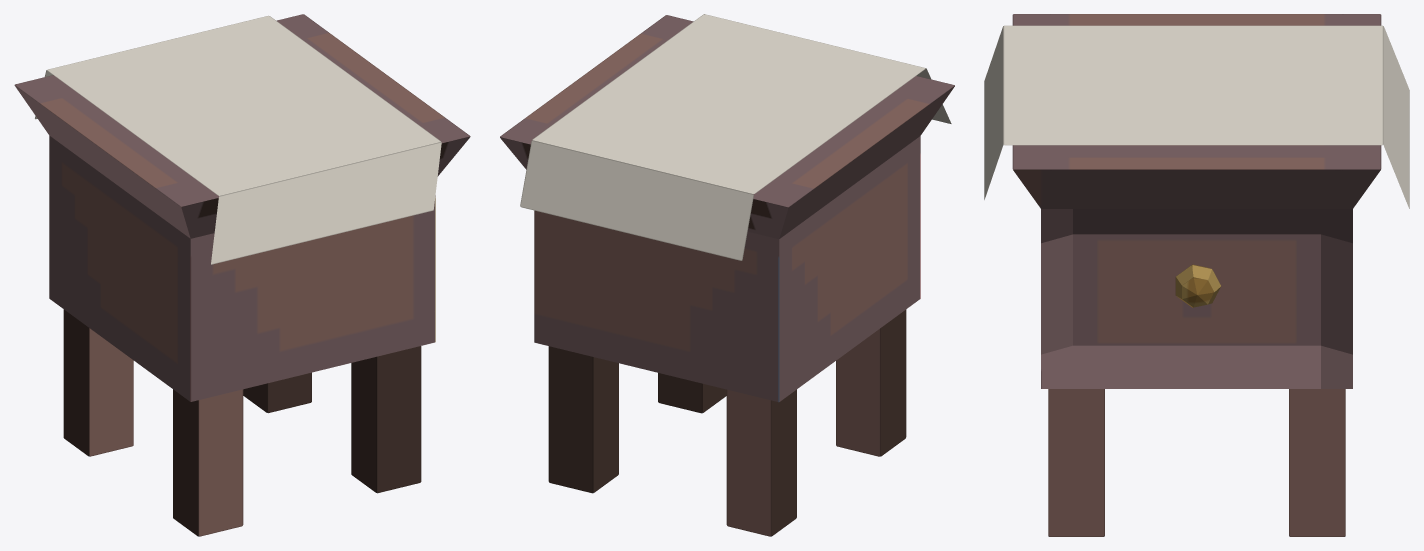
The model's file is livingroomsidetable.fbx.
The picture shows the model from 3 angles, left to right: view 1: azimuth 30°, elevation 25°; view 2: azimuth 150°, elevation 25°; view 3: azimuth 270°, elevation 25°; orthographic projection. The views are drawn at different scales.
Visible parts, largest first — view 1: cuboid.001; view 2: cuboid.001; view 3: cuboid.001.
Boxes of the visible parts, bbox=[...] form: cuboid.001: bbox=[14, 14, 470, 536]; cuboid.001: bbox=[500, 14, 954, 536]; cuboid.001: bbox=[984, 14, 1409, 536].
Size of the model in its own units: 77.67 by 91.11 by 89.62.
